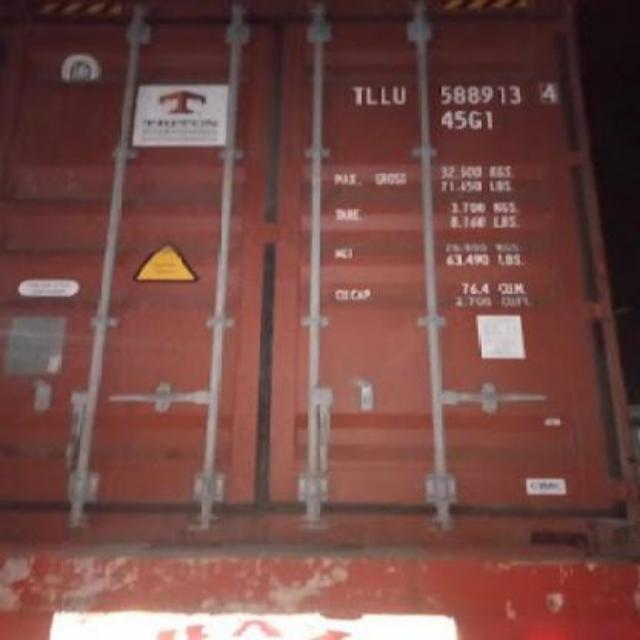1: (492, 80, 508, 108)
3: (506, 83, 524, 107)
4: (540, 82, 558, 105)
5: (430, 79, 454, 105)
8: (452, 83, 468, 107), (464, 80, 478, 106)
9: (481, 82, 494, 105)
L: (376, 81, 394, 111), (364, 79, 378, 111)
T: (351, 80, 364, 110)
U: (388, 78, 406, 105)
